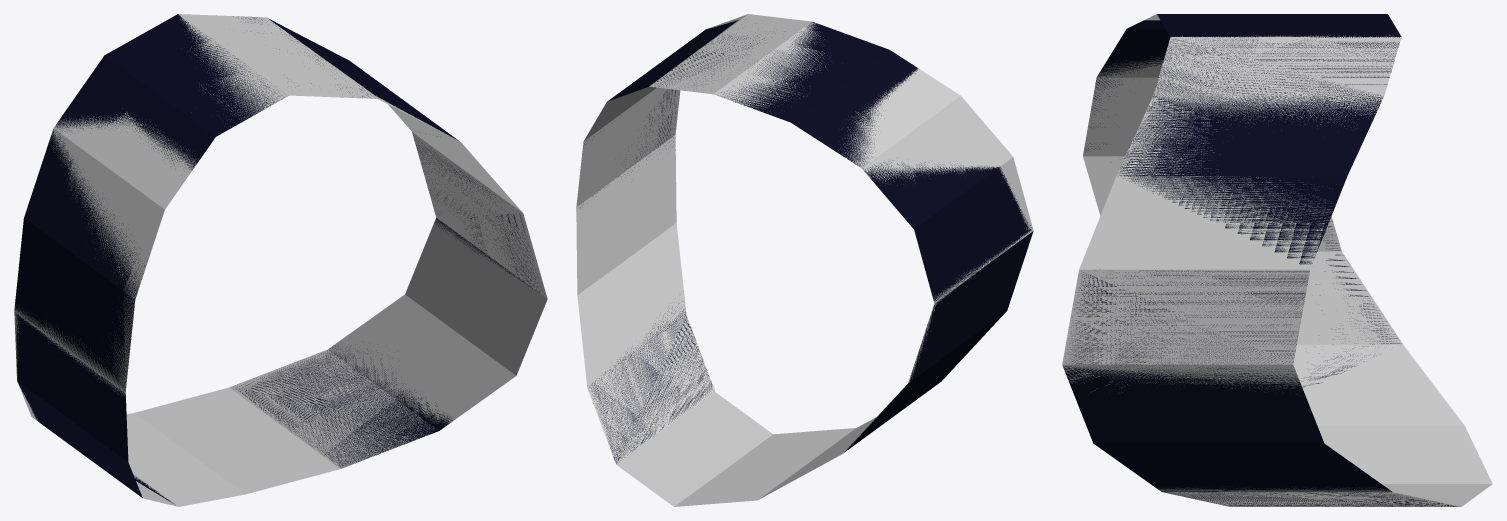
Rendered from tx_jianwugong2_fire_01.obj.
3 views of the same model, side by side, from view 1: azimuth 30°, elevation 25°; view 2: azimuth 150°, elevation 25°; view 3: azimuth 270°, elevation 25° (orthographic). The views are drawn at different scales.
Visible parts, largest first — view 1: Circle02, Circle01; view 2: Circle02, Circle01; view 3: Circle02, Circle01.
Part boxes in pixels (bbox=[...]): Circle02: bbox=[14, 14, 547, 506]; Circle01: bbox=[14, 14, 543, 503]; Circle02: bbox=[576, 14, 1033, 506]; Circle01: bbox=[580, 20, 1033, 463]; Circle02: bbox=[1062, 14, 1492, 506]; Circle01: bbox=[1063, 14, 1456, 506].
Size of the model in its own units: 54.65 by 54.65 by 47.72.
